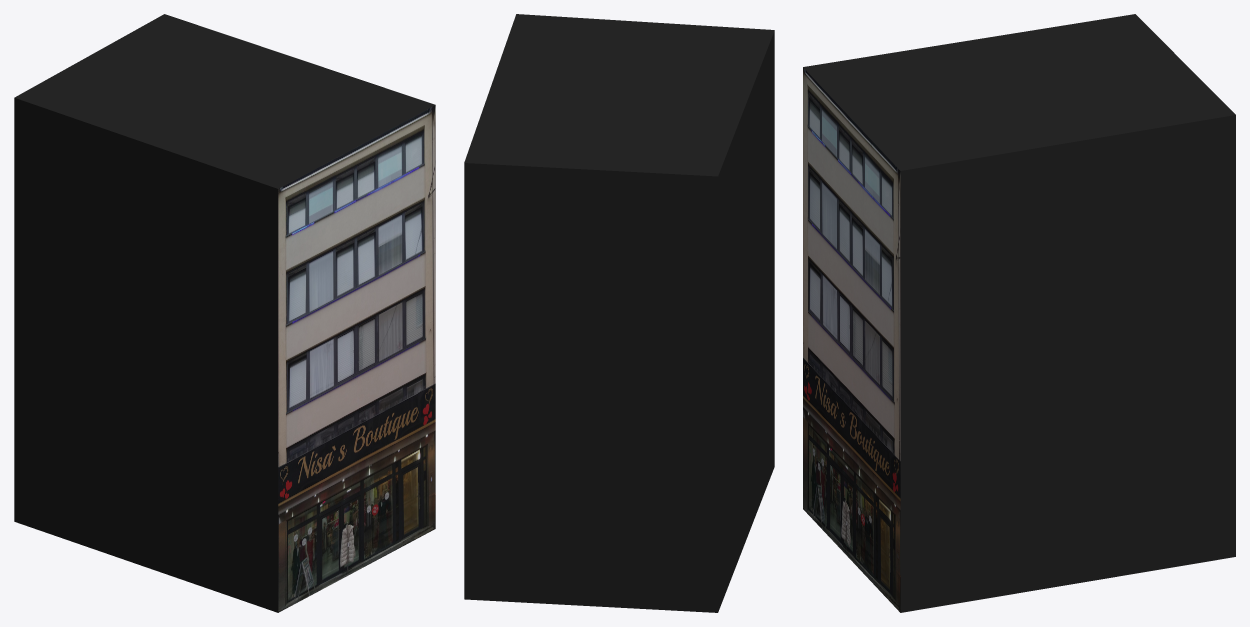
Rendered from B_Werth_17.FBX.
3 views of the same model, side by side, from view 1: azimuth 30°, elevation 25°; view 2: azimuth 150°, elevation 25°; view 3: azimuth 270°, elevation 25° (orthographic). The views are drawn at different scales.
Parts seen in each view (by area): view 1: B_Werth_17, B_Werth_17_front; view 2: B_Werth_17; view 3: B_Werth_17, B_Werth_17_front.
Boxes of the visible parts, left/top/right/bottom form: B_Werth_17: left=14, top=14, right=435, bottom=612; B_Werth_17_front: left=278, top=105, right=435, bottom=612; B_Werth_17: left=464, top=14, right=774, bottom=612; B_Werth_17: left=803, top=14, right=1235, bottom=612; B_Werth_17_front: left=803, top=67, right=900, bottom=612.
Size of the model in its own units: 990 by 1300 by 1154.
Materials: 2 (1 with a texture image).
